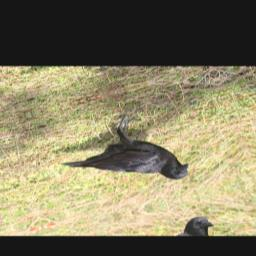Crow: (45, 102, 192, 207)
